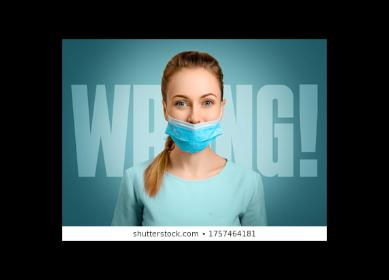mask_weared_incorrect: (168, 86, 221, 149)
